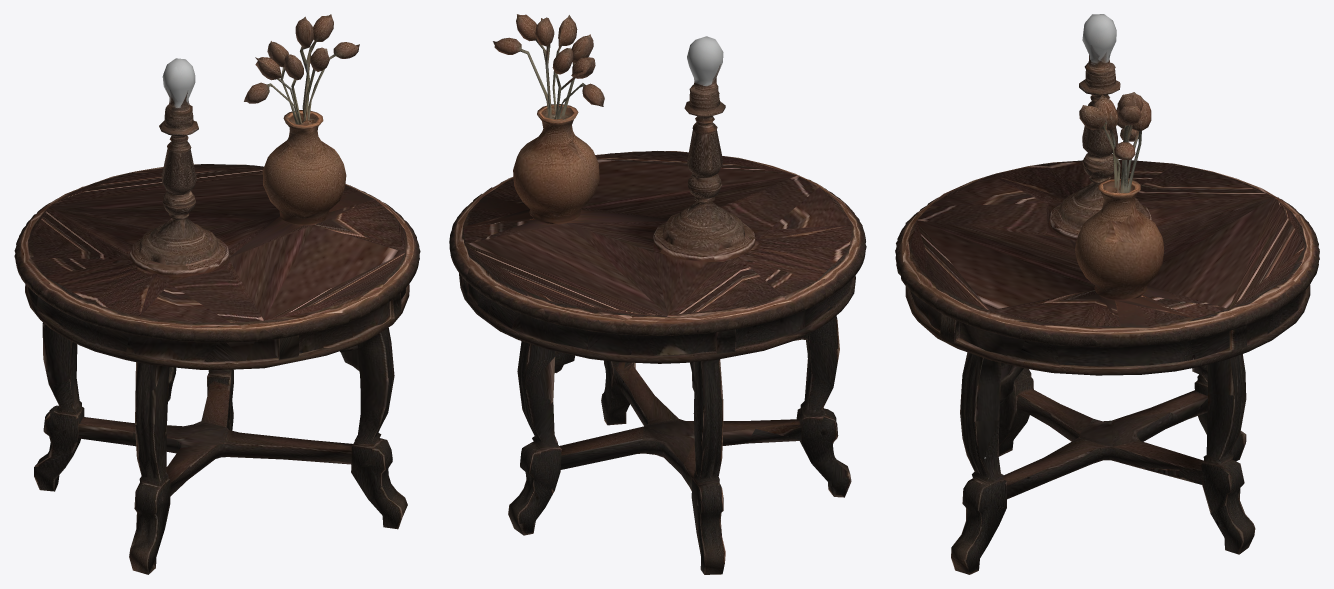
Rendered from side_table.glb.
3 renders of one model, left to right at view 1: azimuth 30°, elevation 25°; view 2: azimuth 150°, elevation 25°; view 3: azimuth 270°, elevation 25°, orthographic. The views are drawn at different scales.
Parts seen in each view (by area): view 1: body; view 2: body; view 3: body.
Boxes of the visible parts, box(x1,y1,x2,y2) form: body: box(14, 14, 420, 574); body: box(449, 14, 866, 574); body: box(895, 14, 1319, 574).
Size of the model in its own units: 0.8438 by 1.05 by 0.8439.
Materials: 1 (1 with a texture image).
